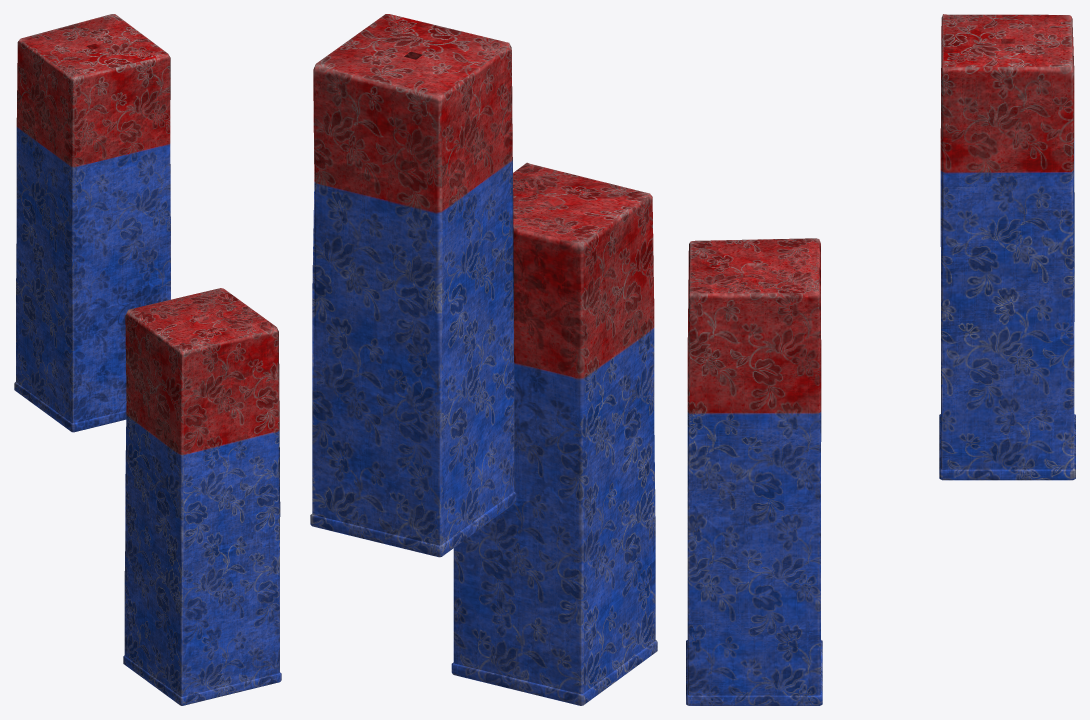
The model's file is TraditionalKoreanHouse_Lantern.fbx.
The picture shows the model from 3 angles, left to right: view 1: azimuth 30°, elevation 25°; view 2: azimuth 150°, elevation 25°; view 3: azimuth 270°, elevation 25°; orthographic projection. The views are drawn at different scales.
Parts seen in each view (by area): view 1: TraditionalKoreanHouse_Lantern; view 2: TraditionalKoreanHouse_Lantern; view 3: TraditionalKoreanHouse_Lantern.
Boxes of the visible parts, x1=… form: TraditionalKoreanHouse_Lantern: x1=14, y1=14, x2=281, y2=705; TraditionalKoreanHouse_Lantern: x1=310, y1=14, x2=657, y2=705; TraditionalKoreanHouse_Lantern: x1=686, y1=14, x2=1075, y2=705.
Bounding box in the file's own units: 16.92 × 87.11 × 48.25.
